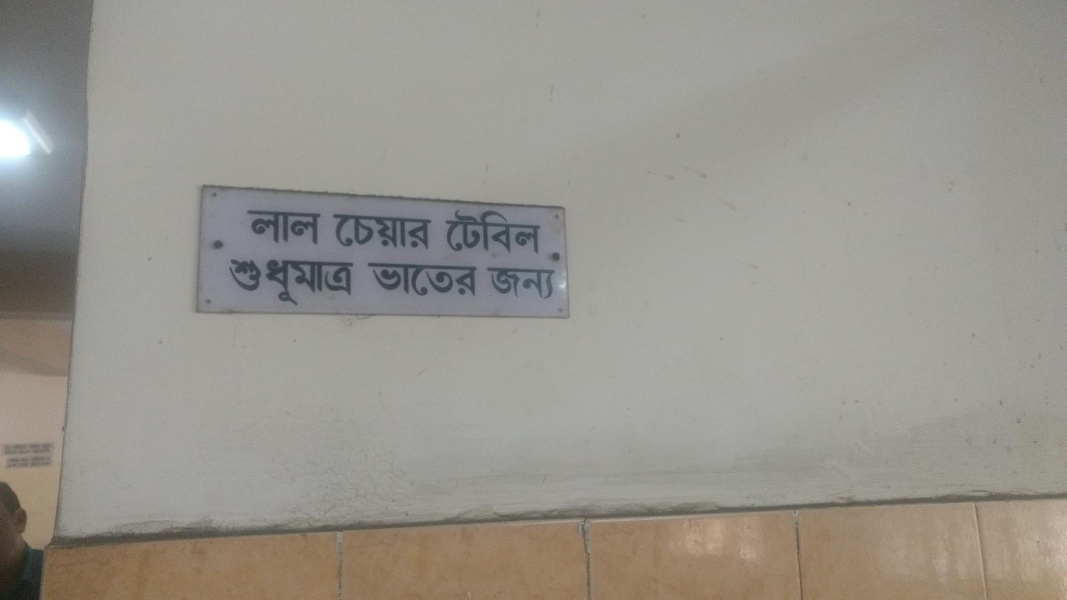text: (241, 257, 256, 309), (257, 257, 272, 309), (273, 257, 288, 309), (289, 257, 304, 309), (305, 257, 320, 309), (321, 257, 336, 309), (337, 257, 352, 309), (449, 205, 464, 255), (465, 205, 480, 255), (481, 205, 496, 255), (497, 205, 512, 255), (513, 205, 528, 255), (529, 205, 543, 255), (227, 257, 240, 309), (465, 262, 481, 302), (417, 213, 433, 252), (369, 262, 384, 302), (385, 262, 400, 302), (401, 262, 416, 302), (417, 262, 432, 302), (433, 262, 448, 302), (449, 262, 464, 302), (257, 209, 272, 248), (273, 209, 288, 248), (289, 209, 304, 248), (305, 209, 320, 248), (337, 213, 352, 252), (353, 213, 368, 252), (369, 213, 384, 252), (385, 213, 400, 252), (401, 213, 416, 252), (497, 267, 512, 302), (513, 267, 528, 302), (529, 267, 544, 302), (545, 267, 557, 302), (246, 209, 256, 248), (487, 267, 496, 302), (442, 205, 448, 255), (353, 257, 358, 309), (332, 213, 336, 252), (321, 209, 324, 248), (366, 262, 368, 302)
